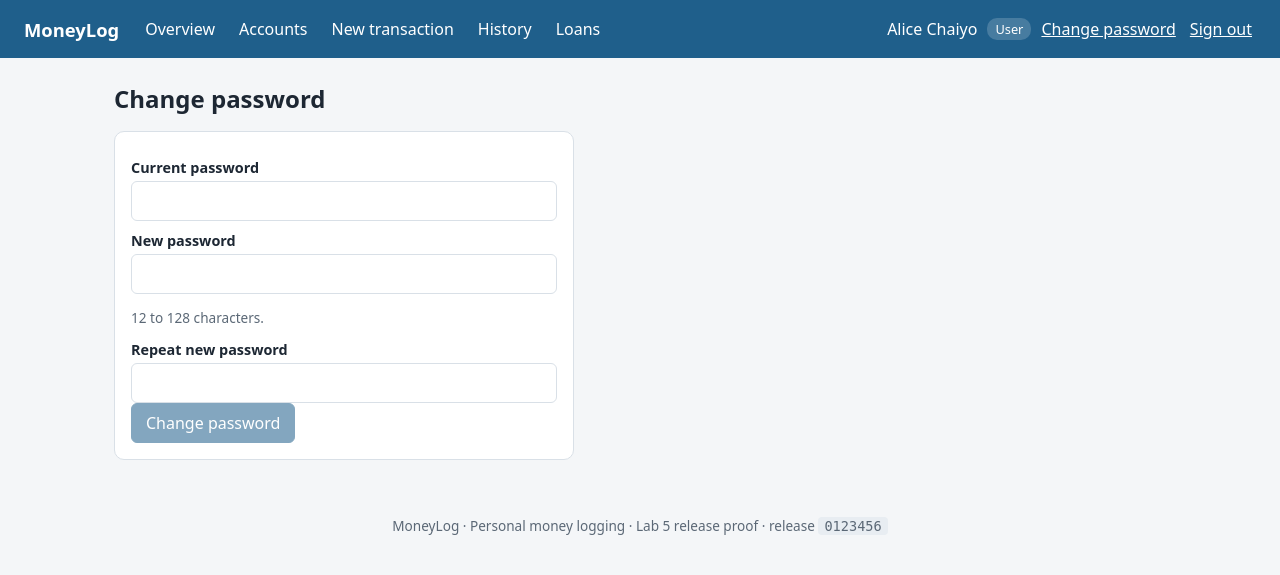
Test: TEST-98 change password page (AC-80) › checks that the new passwords match before sending
Type "Old-Pass-2026!" into the password field labelled "Current password". click: [344, 201]
box: [131,181,557,221]
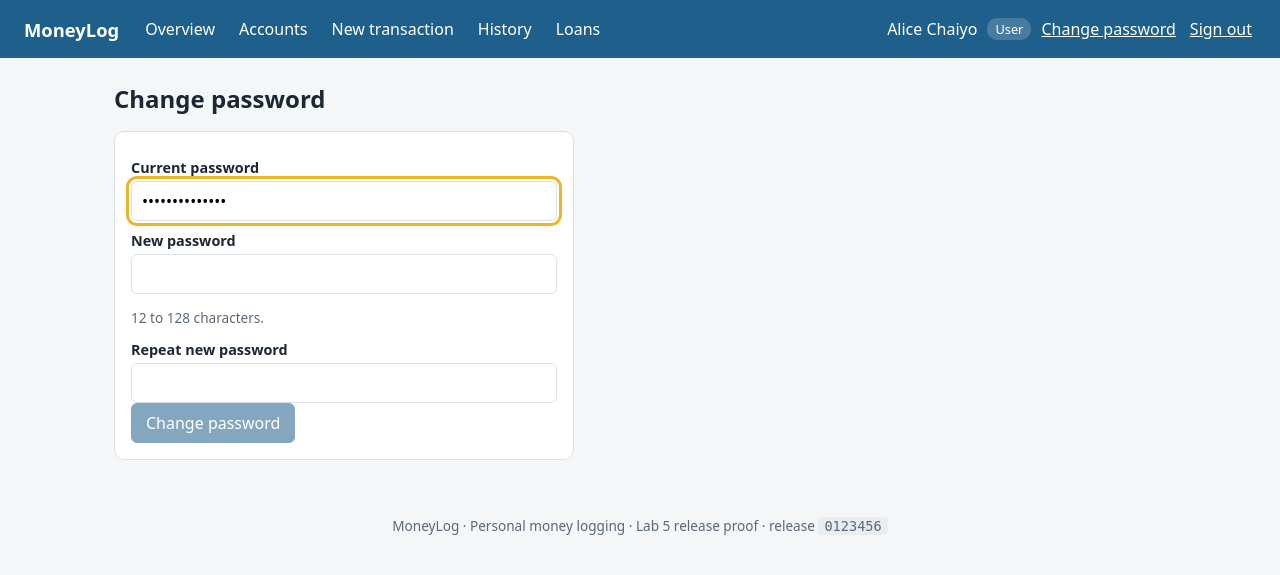
Type "Brand-New-Pass-2026" into the password field labelled "New password". click: [344, 274]
box: [131,254,557,294]
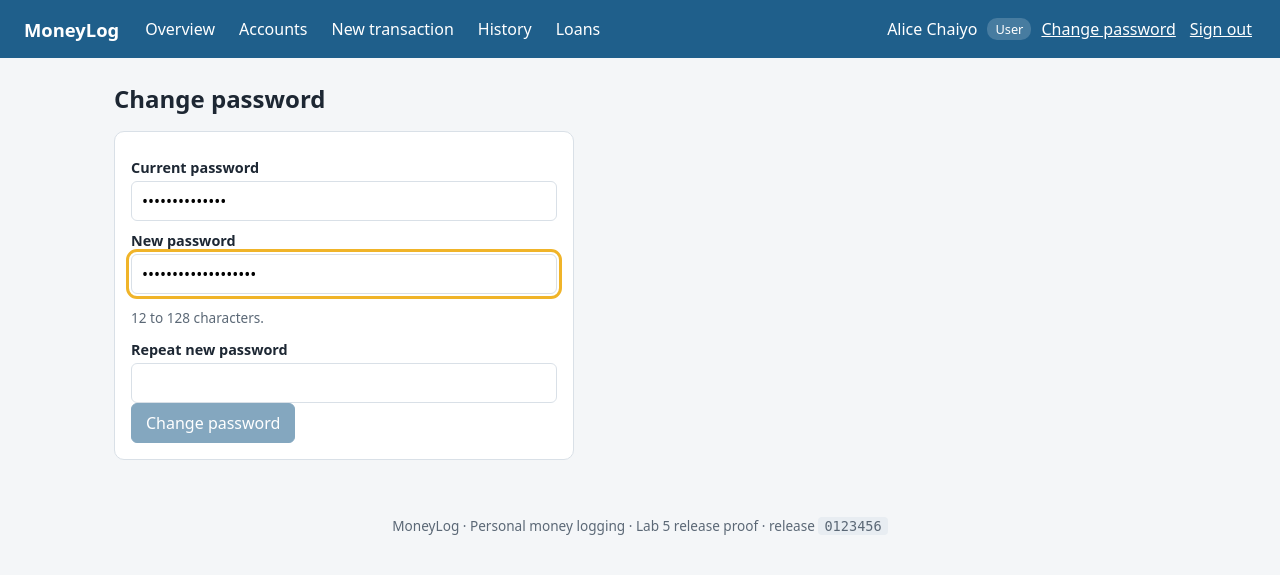
Type "Brand-New-Pass-2025" into the password field labelled "Repeat new password". click: [344, 383]
box: [131,363,557,403]
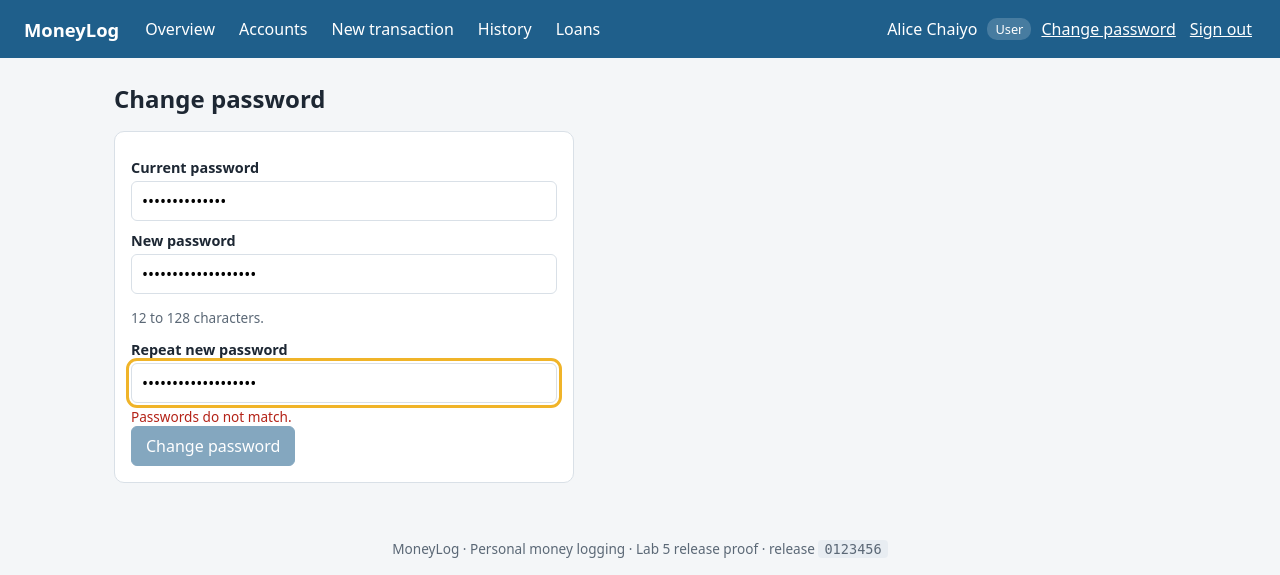
Expected: the button "Change password" is disabled, [131,426,295,466]
Expected: the text "Passwords do not match." is shown, [131,407,292,426]
